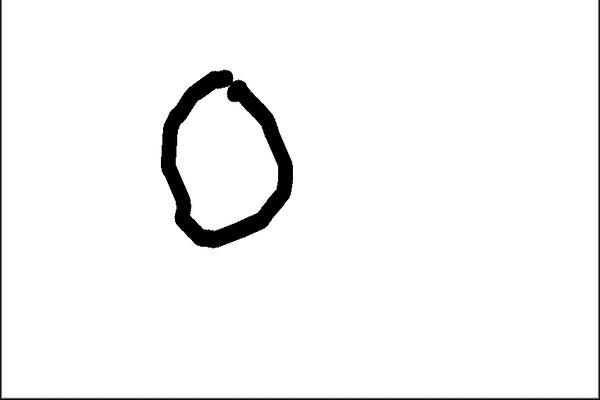O: (145, 55, 297, 254)
